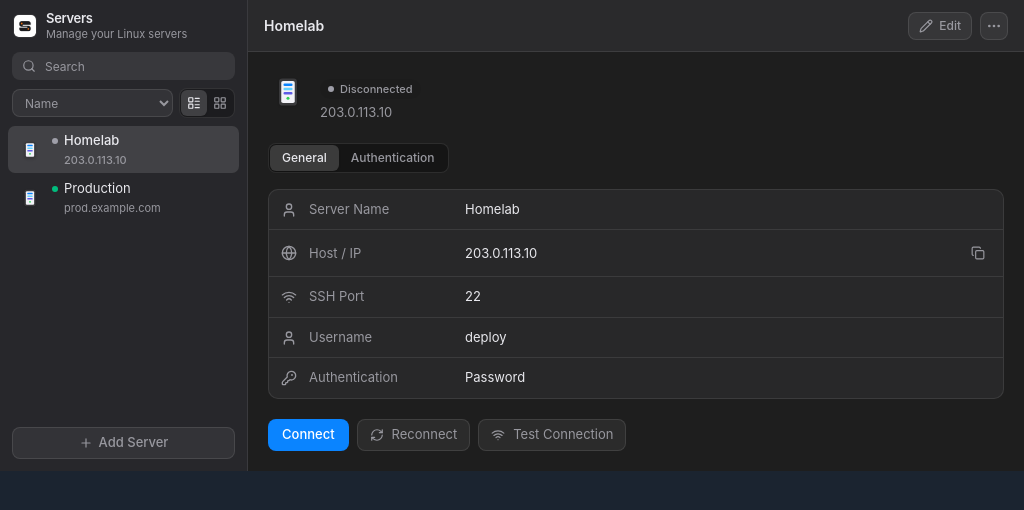
Scenario: ServerManager › shows the selected server details and keeps the other server in the list
The width and height of the screenshot is (1024, 510).
Expected: the heading "Servers" is shown, [46,10,93,26]
Expected: the text "Manage your Linux servers" is shown, [46,26,187,42]
Click the option "Production prod.example.com". click: (108, 198)
box: [16,179,201,216]
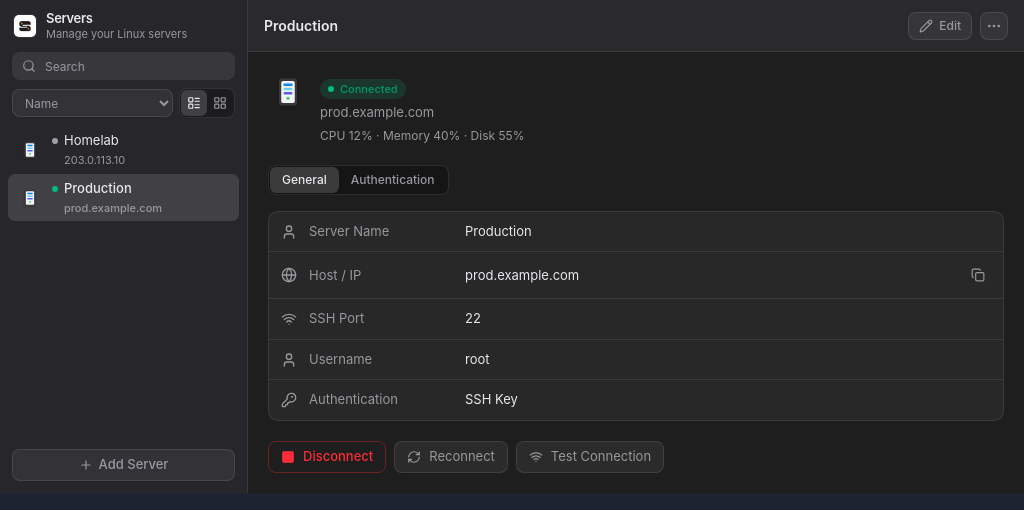
Expected: the heading "Production" is shown, [264,17,338,34]
Expected: the text "SSH Key" is shown, [465,391,518,407]
Expected: the button "Disconnect" is shown, [268,441,386,473]
